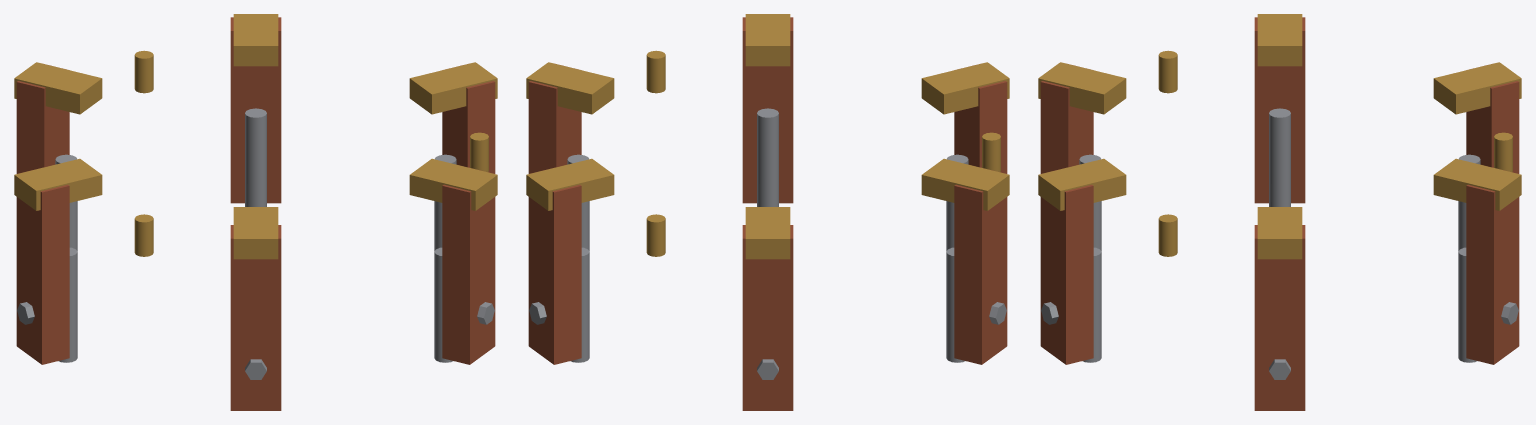
The model's file is collar_latch.obj.
3 views of the same model, side by side, from view 1: azimuth 30°, elevation 25°; view 2: azimuth 150°, elevation 25°; view 3: azimuth 270°, elevation 25° (orthographic).
Visible parts, largest first — view 1: collar_latch; view 2: collar_latch; view 3: collar_latch.
Boxes of the visible parts, x1,y1,x2,y2 form: collar_latch: [14, 14, 497, 410]; collar_latch: [526, 14, 1009, 410]; collar_latch: [1038, 14, 1521, 410].
Bounding box in the file's own units: 1.7 × 0.645 × 1.52.
